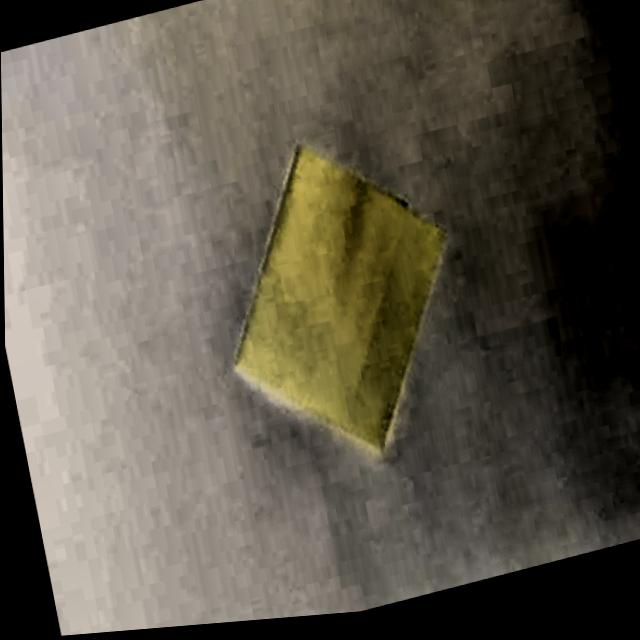Paper: (182, 91, 499, 515)
